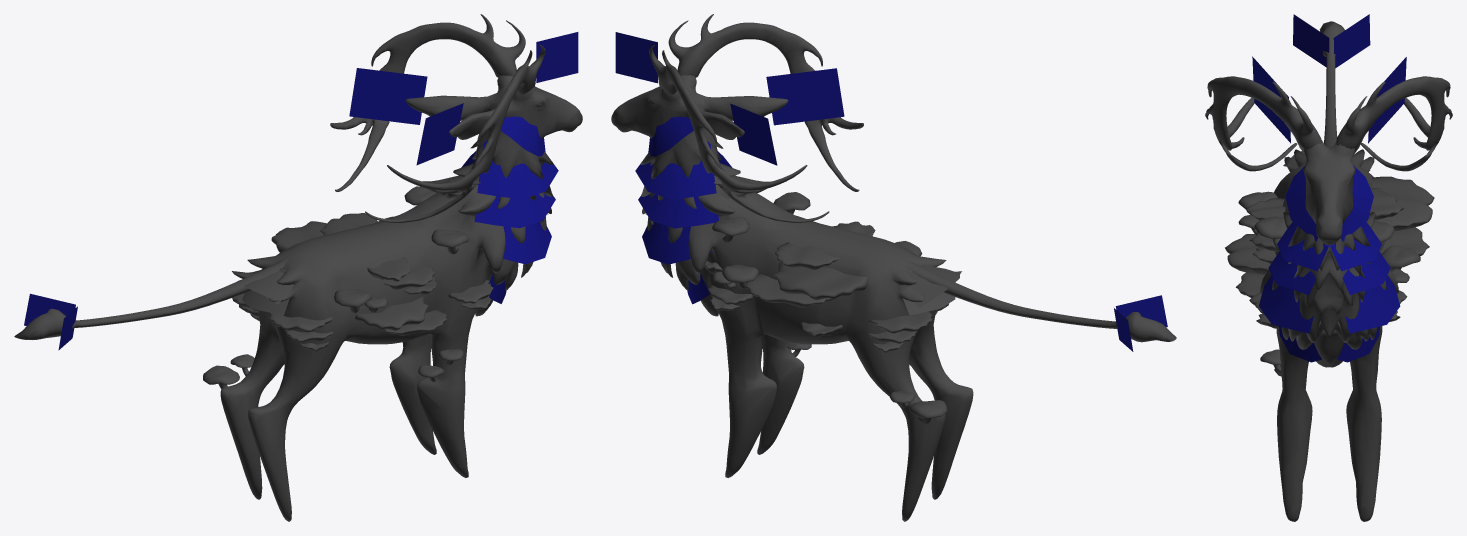
The model's file is newstag.fbx.
3 renders of one model, left to right at view 1: azimuth 30°, elevation 25°; view 2: azimuth 150°, elevation 25°; view 3: azimuth 270°, elevation 25°, orthographic. The views are drawn at different scales.
Visible parts, largest first — view 1: Sphere001, Object013, Object040, Object014, Object041; view 2: Sphere001, Object013, Object040, Object014, Object041; view 3: Sphere001, Object013, Object040, Object014.
Boxes of the visible parts, bbox=[...] form: Sphere001: bbox=[14, 75, 582, 521]; Object013: bbox=[24, 32, 578, 350]; Object040: bbox=[203, 186, 493, 388]; Object014: bbox=[330, 14, 545, 222]; Object041: bbox=[237, 268, 294, 315]; Sphere001: bbox=[611, 75, 1176, 521]; Object013: bbox=[615, 32, 1167, 351]; Object040: bbox=[704, 192, 948, 424]; Object014: bbox=[649, 14, 863, 222]; Object041: bbox=[902, 262, 960, 315]; Sphere001: bbox=[1260, 21, 1398, 521]; Object013: bbox=[1252, 14, 1406, 362]; Object040: bbox=[1225, 176, 1434, 376]; Object014: bbox=[1205, 76, 1452, 171].
Bounding box in the file's own units: 241 × 173 × 82.15.
